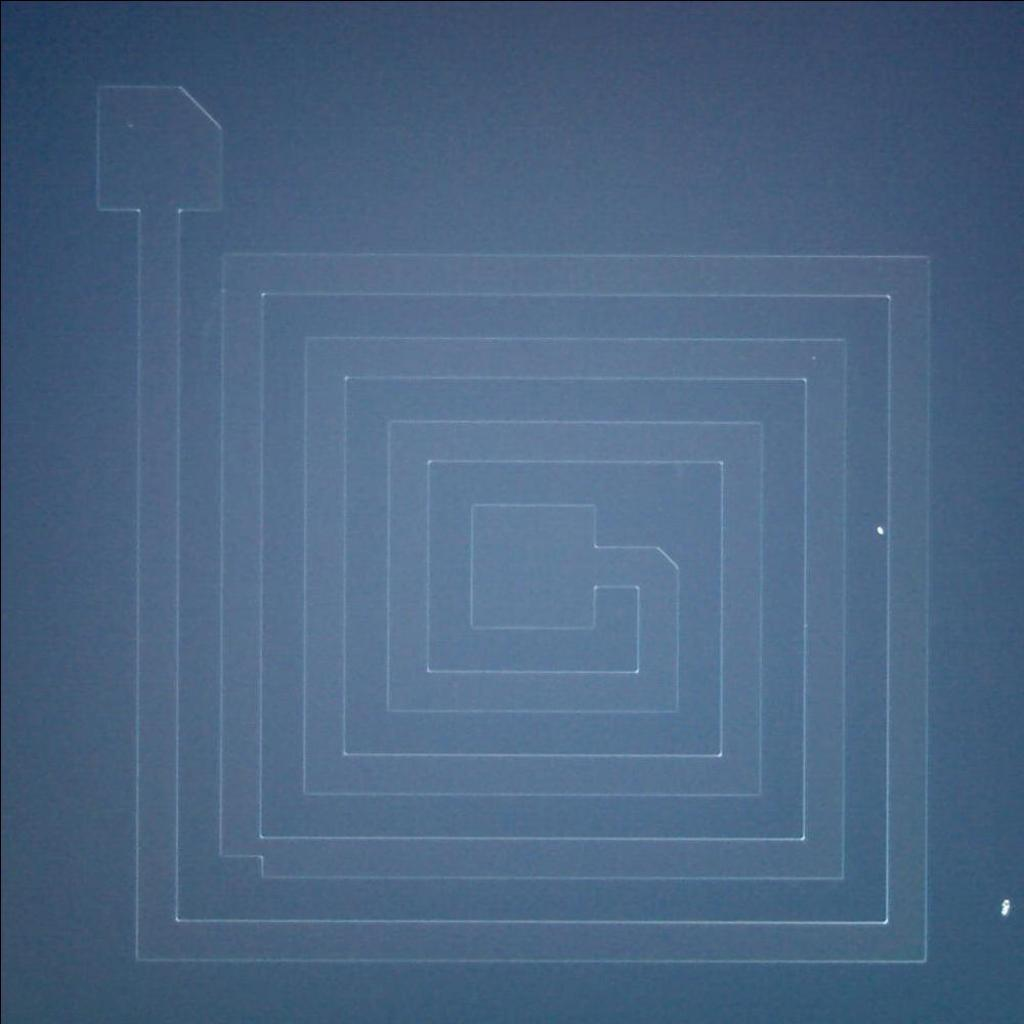dot: (859, 512, 894, 546)
edge circuit: (167, 78, 229, 143), (210, 843, 275, 887), (644, 528, 690, 579)
spot: (995, 891, 1016, 924)
